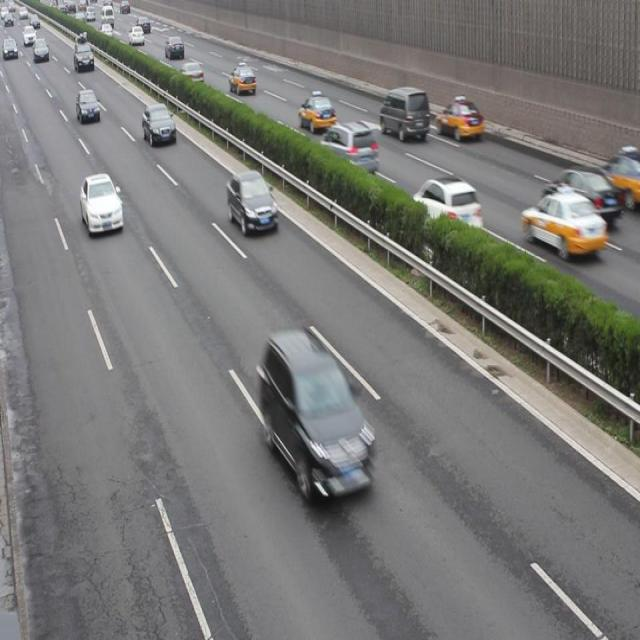car: (262, 328, 376, 502), (520, 190, 606, 258), (409, 174, 480, 243), (543, 166, 620, 226), (227, 168, 279, 236), (320, 121, 378, 175), (80, 173, 124, 235), (436, 97, 483, 141), (297, 93, 336, 135), (142, 102, 177, 146), (76, 87, 101, 125), (228, 64, 257, 96)
truck: (378, 85, 428, 142)
